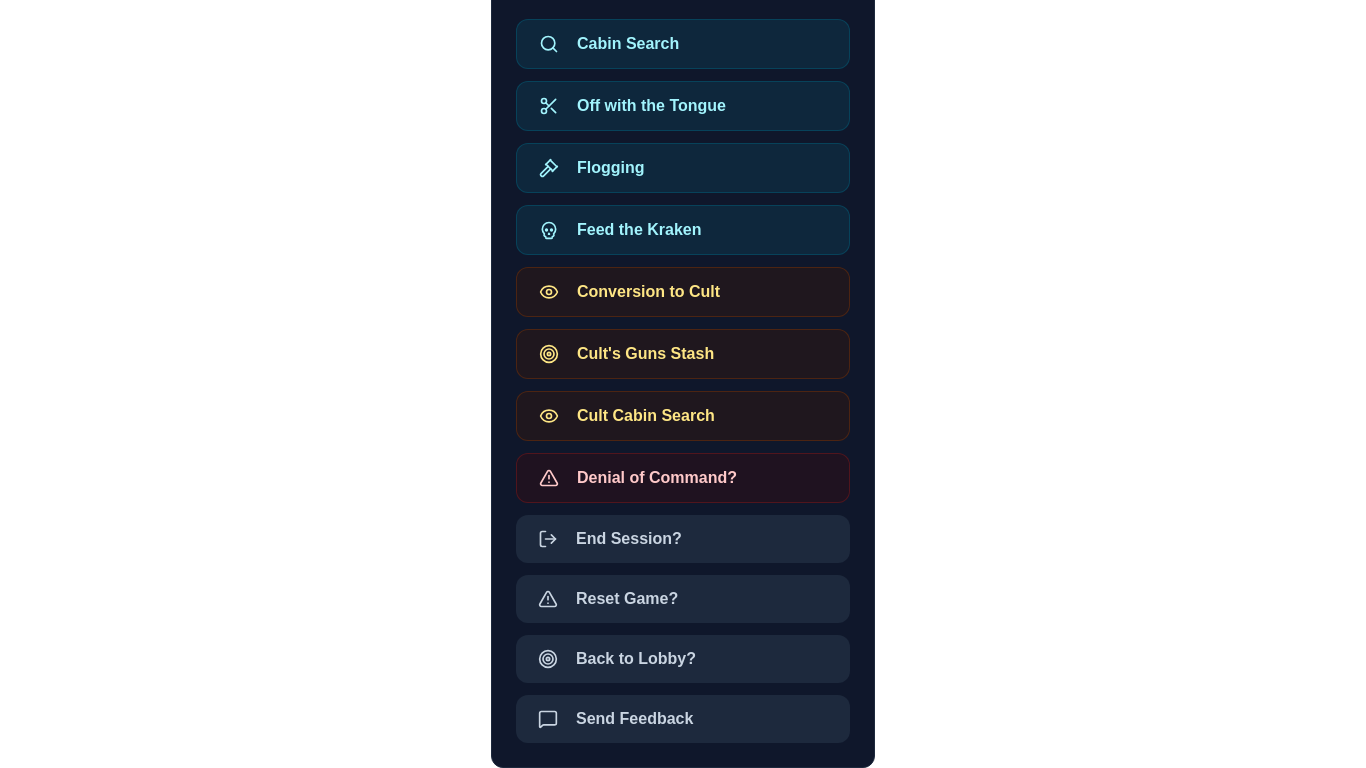
Test: GameView › closes End Session modal when Stay is clicked
The width and height of the screenshot is (1366, 768).
(page scrolled)
Click the button "End Session?": coordinates (683, 539) [516,515,850,563]
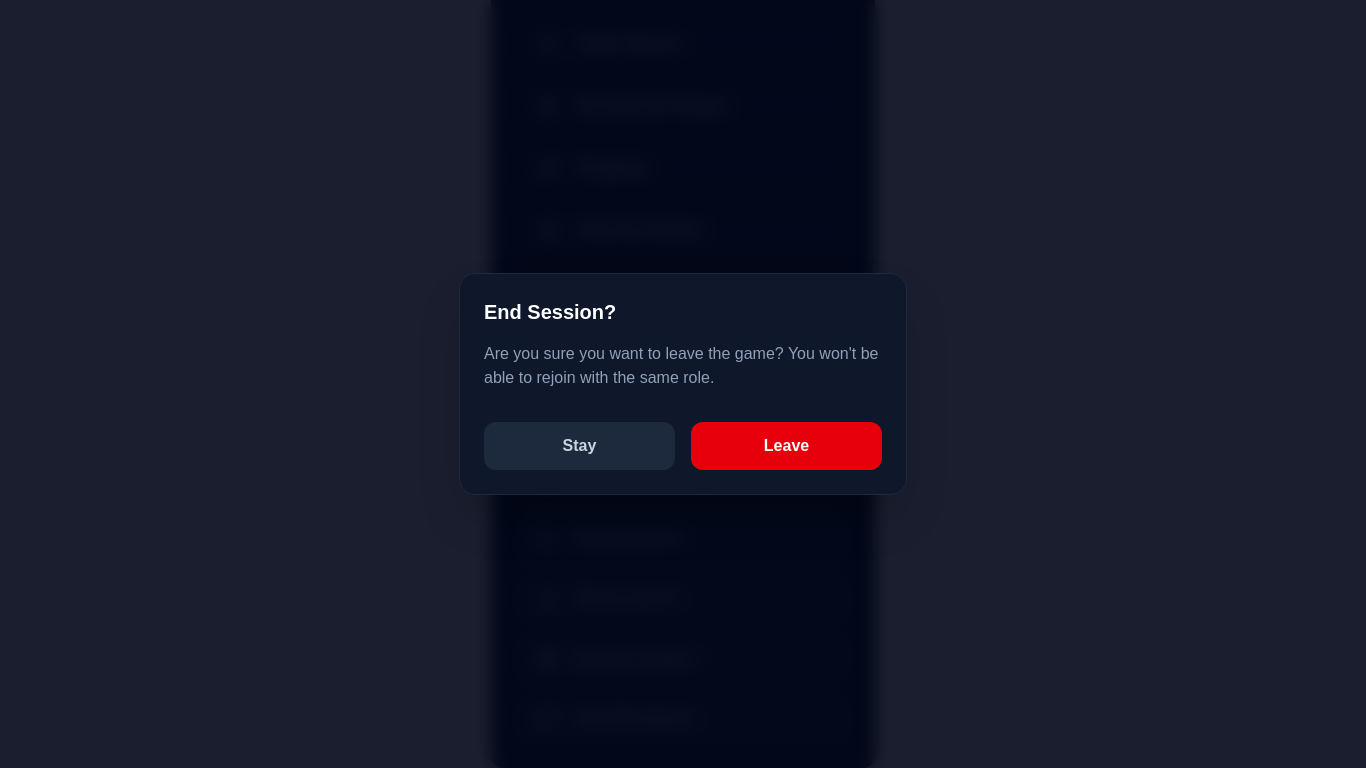
Result: the button "Stay" is shown
Note: Click Stay
Click the button "Stay": coordinates (580, 446) [484,422,675,470]
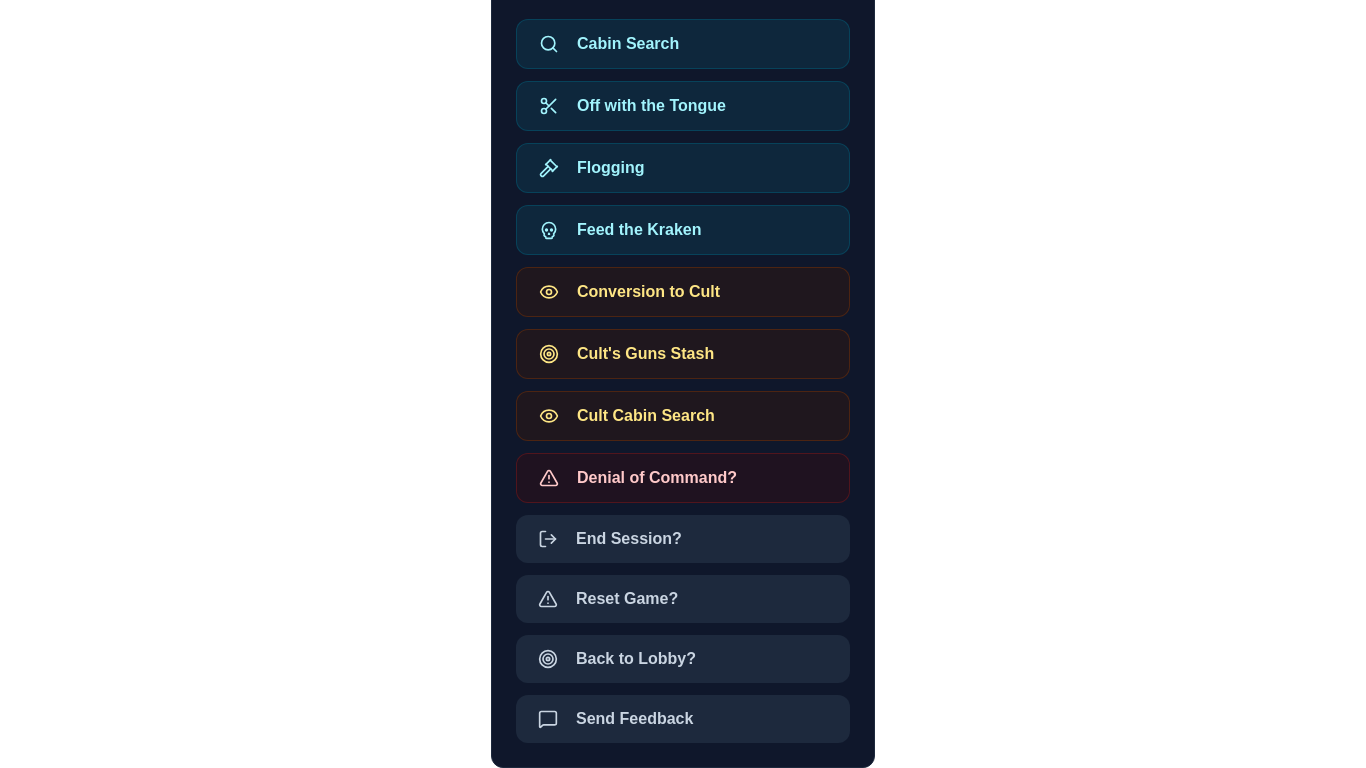
Result: the button "Stay" is gone
